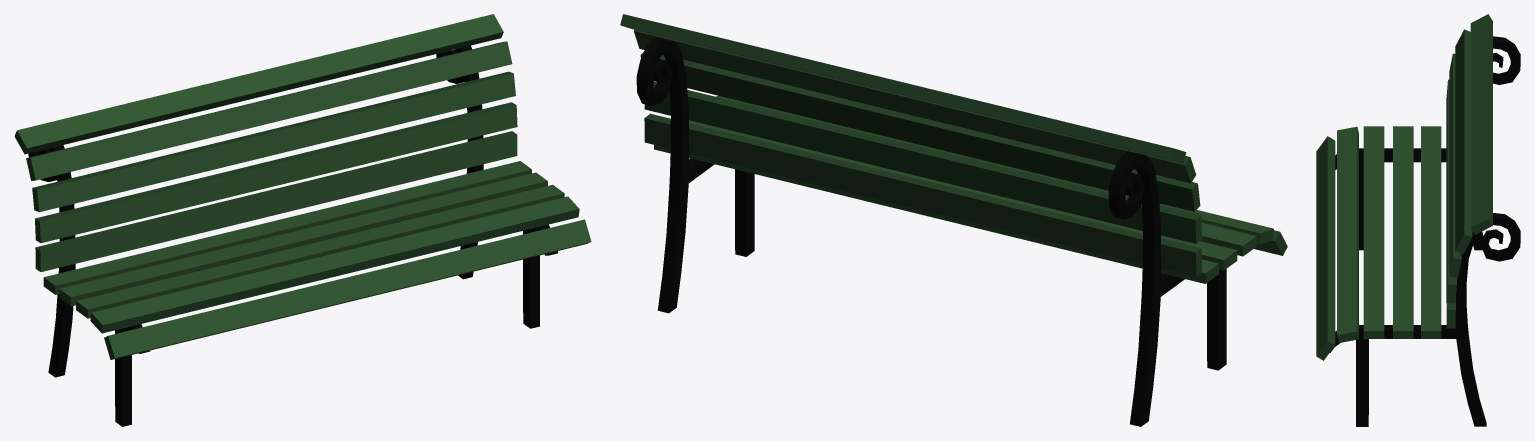
The model's file is ParkBench_Medium.fbx.
3 renders of one model, left to right at view 1: azimuth 30°, elevation 25°; view 2: azimuth 150°, elevation 25°; view 3: azimuth 270°, elevation 25°, orthographic. The views are drawn at different scales.
Parts seen in each view (by area): view 1: ParkBench_Medium; view 2: ParkBench_Medium; view 3: ParkBench_Medium.
Boxes of the visible parts, <box> form: ParkBench_Medium: <box>14,14,591,426</box>; ParkBench_Medium: <box>620,14,1287,426</box>; ParkBench_Medium: <box>1316,14,1520,426</box>.
Bounding box in the file's own units: 226 × 113 × 95.18.
